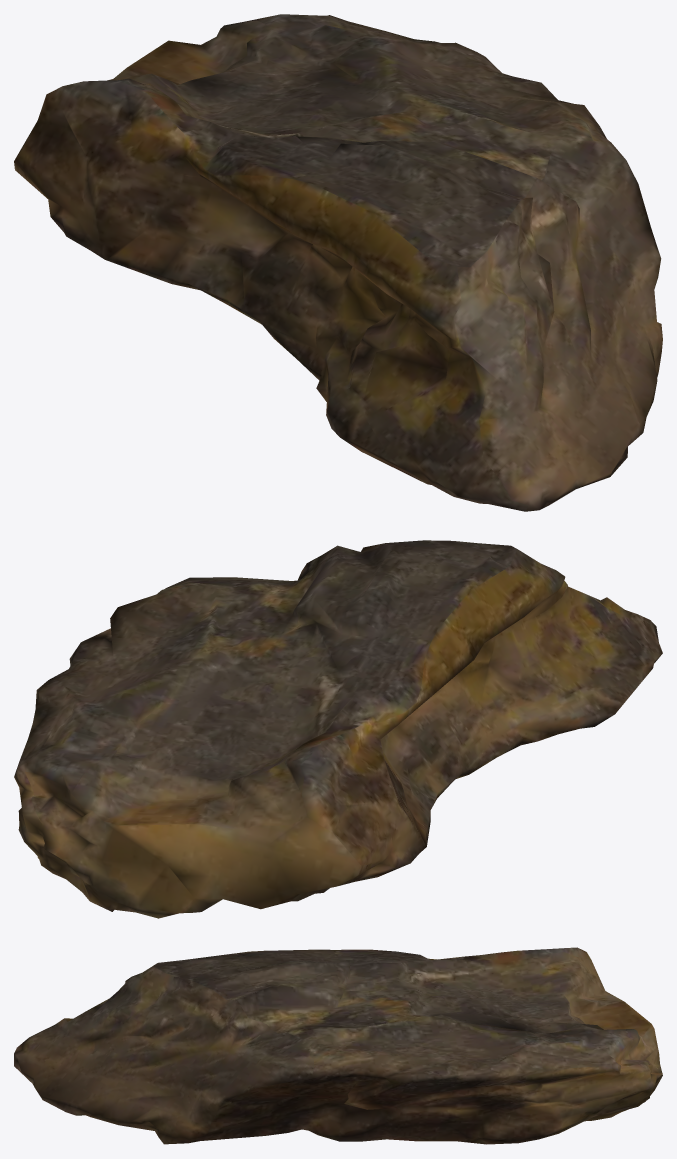
Rendered from rock_09.glb.
3 renders of one model, top to bottom at view 1: azimuth 30°, elevation 25°; view 2: azimuth 150°, elevation 25°; view 3: azimuth 270°, elevation 25°, orthographic. The views are drawn at different scales.
Parts seen in each view (by area): view 1: rock_09_LOD0; view 2: rock_09_LOD0; view 3: rock_09_LOD0.
Part boxes in pixels (bbox=[...]): rock_09_LOD0: bbox=[14, 14, 662, 511]; rock_09_LOD0: bbox=[14, 540, 662, 918]; rock_09_LOD0: bbox=[14, 947, 662, 1144].
Size of the model in its own units: 0.0739 by 0.0326 by 0.1446.
1 material, 1 textured.
